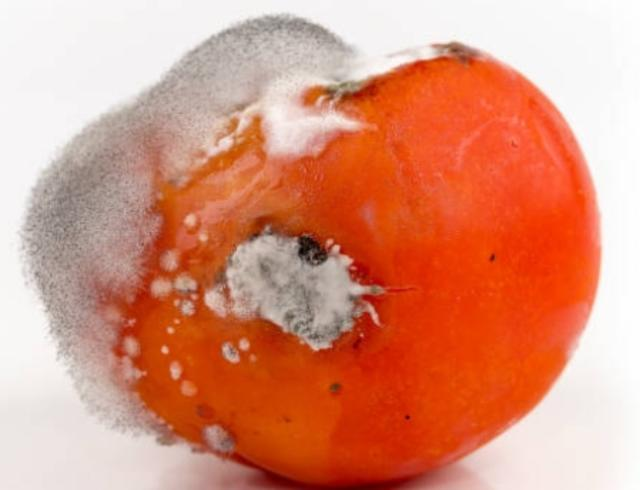defect: (22, 12, 602, 489)
